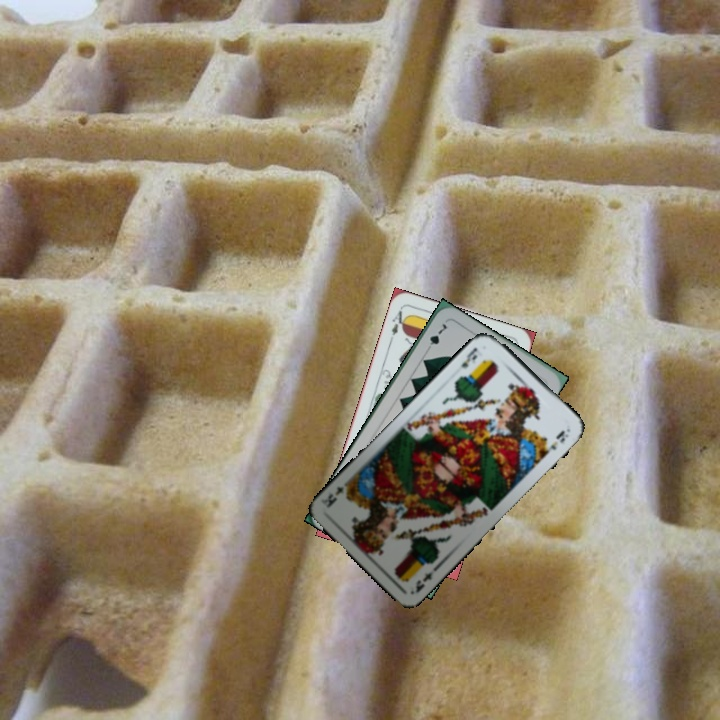EA: (386, 305, 409, 344)
EK: (411, 561, 441, 595), (457, 343, 480, 371)
G7: (422, 319, 449, 355)
